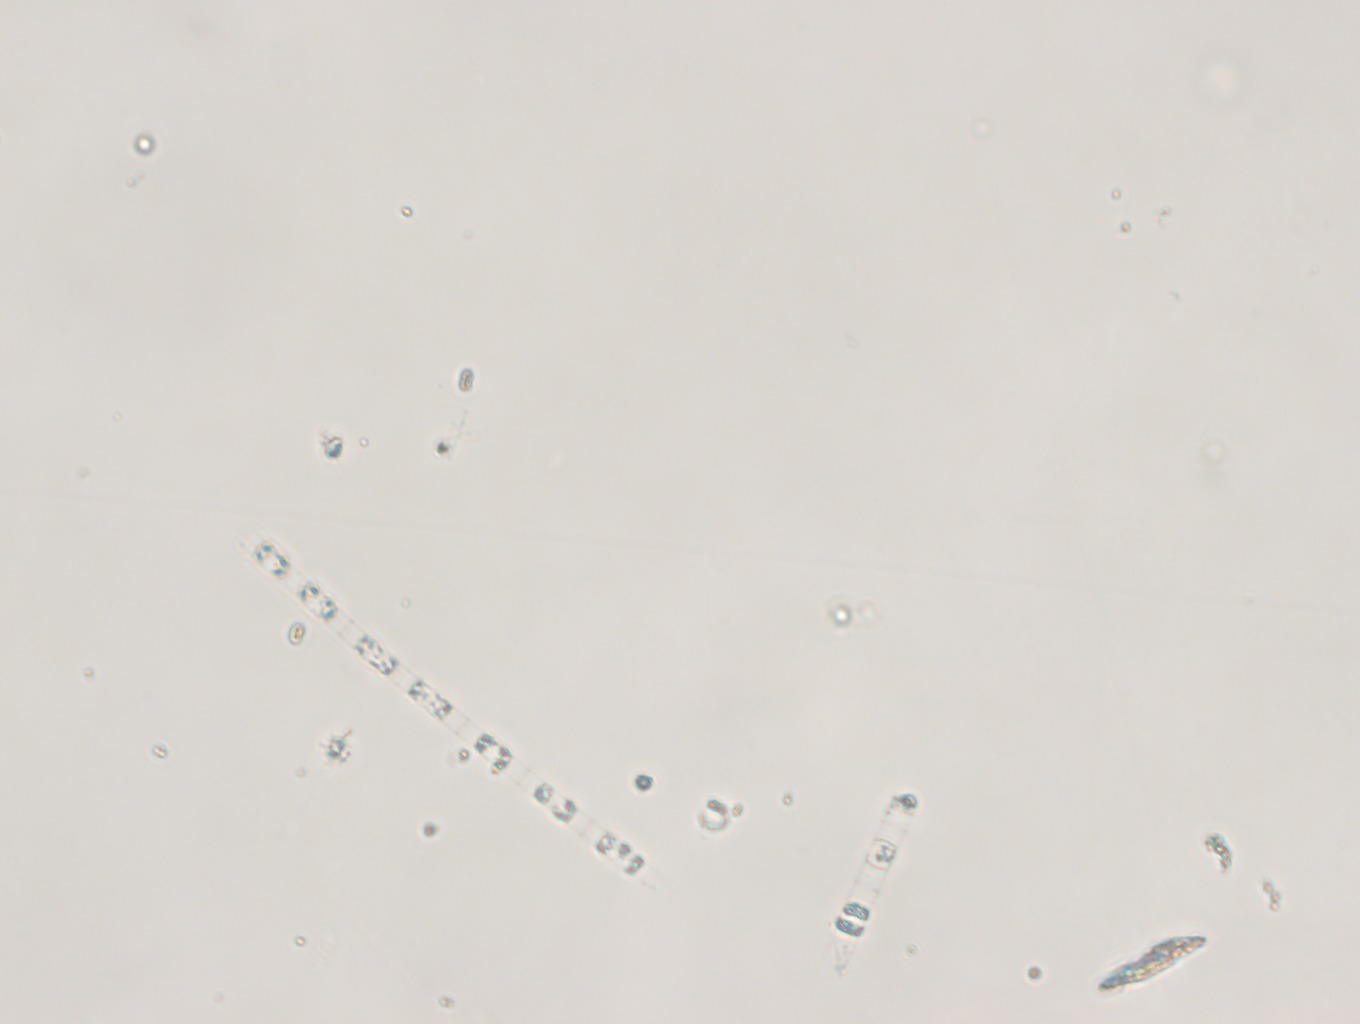skeletonema: (242, 525, 668, 892), (825, 769, 928, 979)
